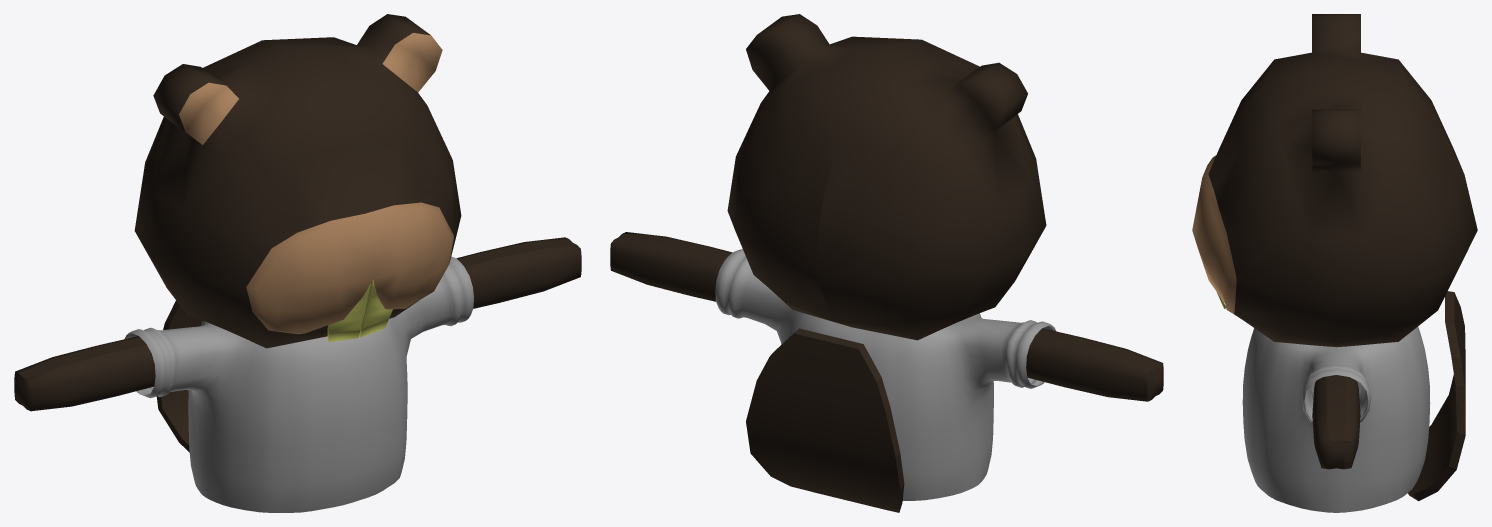
Rendered from beaver_in_cart_mesh_002.FBX.
3 views of the same model, side by side, from view 1: azimuth 30°, elevation 25°; view 2: azimuth 150°, elevation 25°; view 3: azimuth 270°, elevation 25° (orthographic). The views are drawn at different scales.
Parts seen in each view (by area): view 1: fullbody001; view 2: fullbody001; view 3: fullbody001.
Part boxes in pixels (left/top/right/bottom): fullbody001: left=14, top=14, right=581, bottom=512; fullbody001: left=610, top=14, right=1163, bottom=512; fullbody001: left=1192, top=14, right=1477, bottom=512.
Bounding box in the file's own units: 1.27 × 0.9485 × 0.5888.
